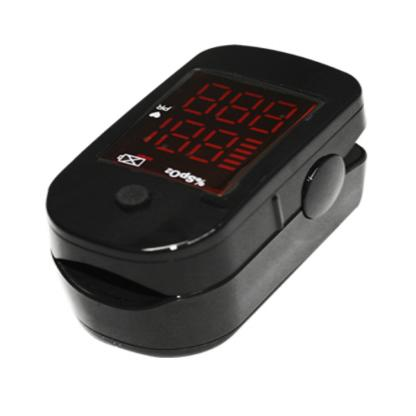Displays: (110, 70, 318, 197)
